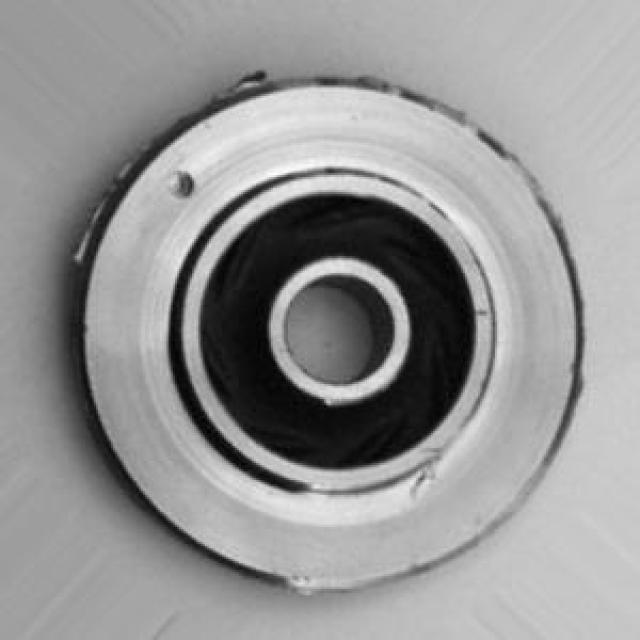Defect: (163, 166, 204, 202)
